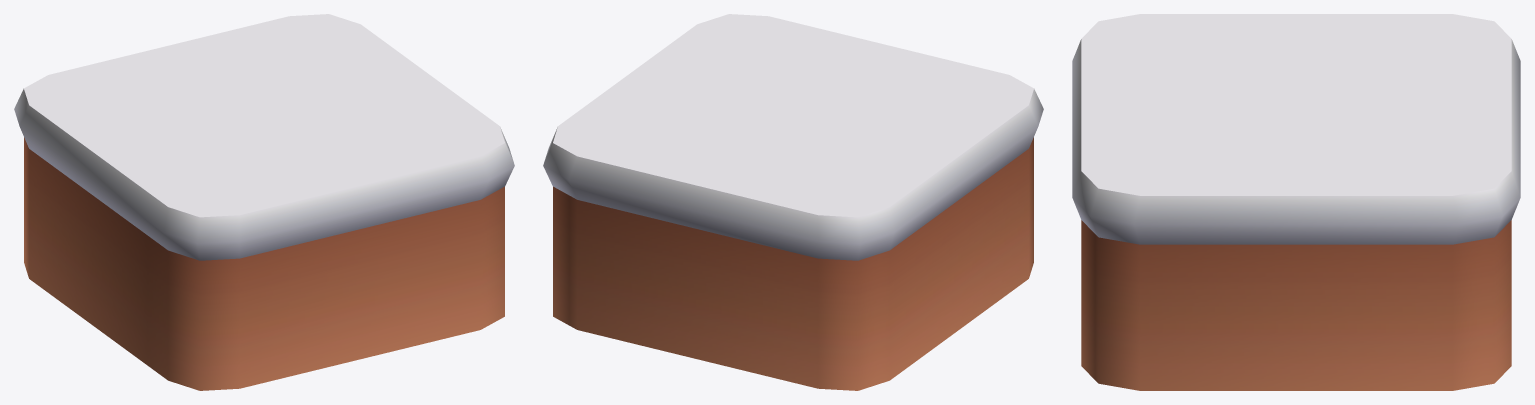
File: kenney-platformer-block-snow-large.glb
3 views of the same model, side by side, from view 1: azimuth 30°, elevation 25°; view 2: azimuth 150°, elevation 25°; view 3: azimuth 270°, elevation 25° (orthographic). The views are drawn at different scales.
Visible parts, largest first — view 1: block-snow-large; view 2: block-snow-large; view 3: block-snow-large.
Part boxes in pixels (x1=…): block-snow-large: x1=14, y1=14, x2=514, y2=390; block-snow-large: x1=543, y1=14, x2=1043, y2=390; block-snow-large: x1=1072, y1=14, x2=1520, y2=390.
Bounding box in the file's own units: 2.08 × 1 × 2.08.
Materials: 1 (1 with a texture image).
